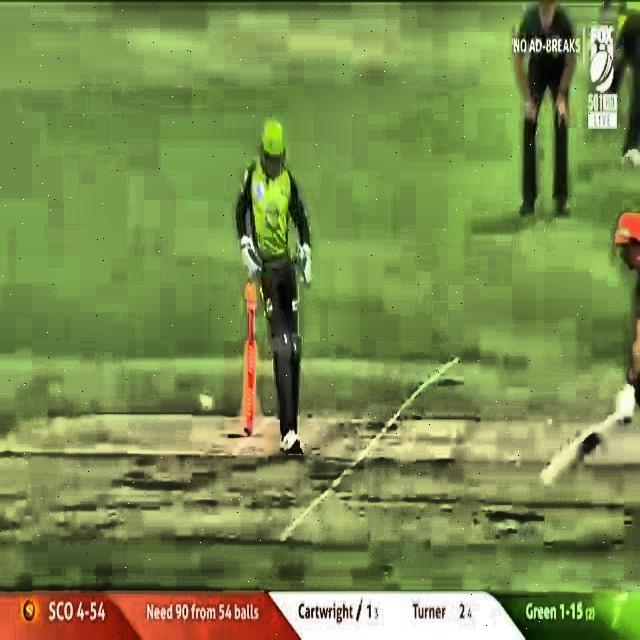Ball: (193, 390, 220, 421)
Dis_Wicket: (238, 278, 264, 447)
Pitch_Line: (274, 350, 461, 543)
